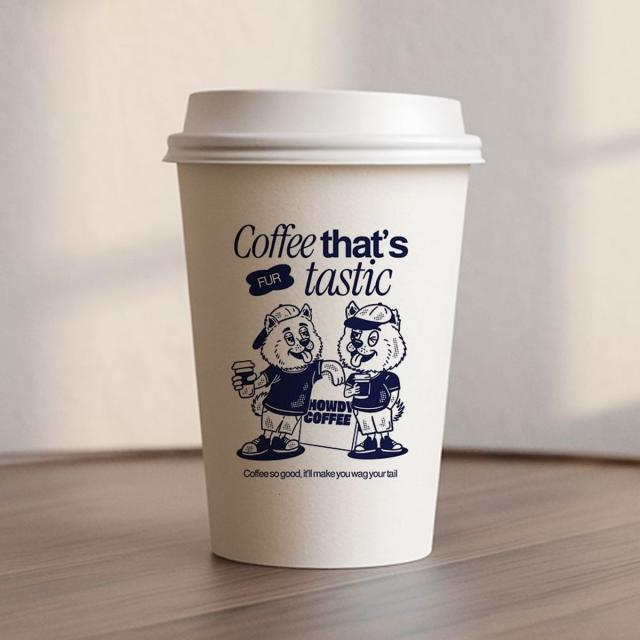paper cup: (164, 89, 486, 569)
